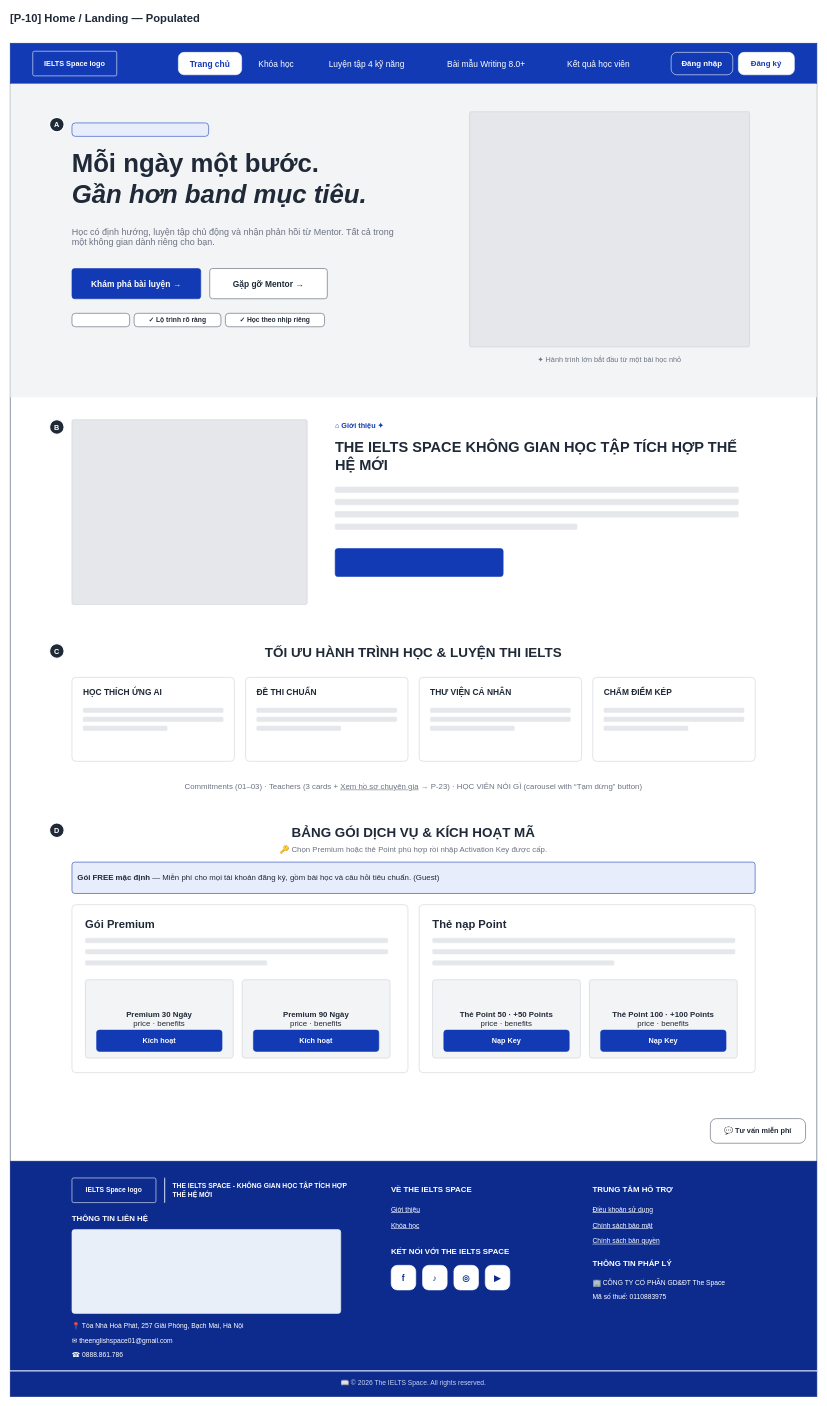
This 827x1406 diagram has some shape labels left out. The centre of each missing label's shape, as x and y in pixels:
"Xem thêm về The IELTS Space →" goes at (419,562).
"▨ Hero visual" goes at (609,229).
"▨ Introduction image + 4 highlights" goes at (189,512).
"✓ 4 kỹ năng" goes at (100,320).
"✦ KHÔNG GIAN HỌC IELTS CỦA BẠN" goes at (140,129).
"📍 The IELTS Space Mở trong Maps ↗" goes at (206,1271).
